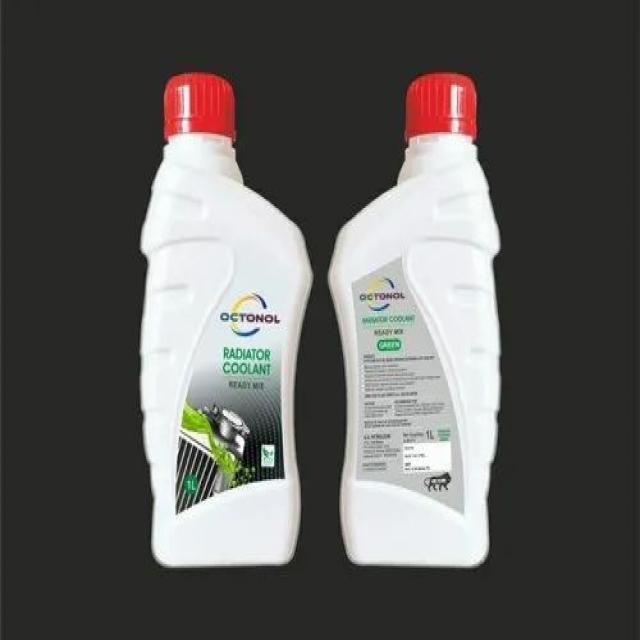coolant: (139, 65, 316, 576), (327, 62, 496, 573)
